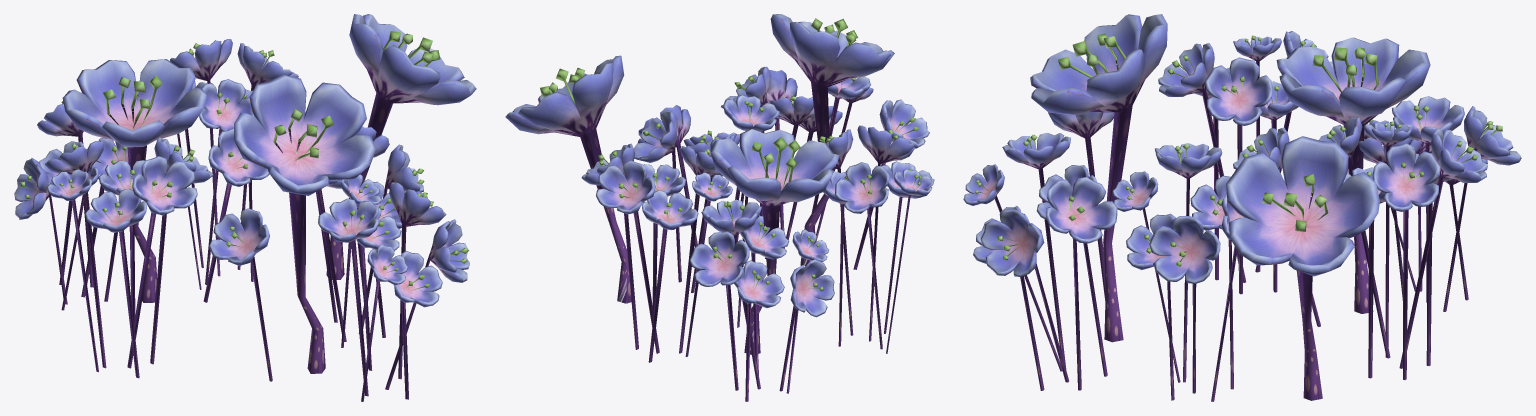
Rendered from n_SWFgogra06d.glb.
The picture shows the model from 3 angles, left to right: view 1: azimuth 30°, elevation 25°; view 2: azimuth 150°, elevation 25°; view 3: azimuth 270°, elevation 25°; orthographic projection. The views are drawn at different scales.
Parts seen in each view (by area): view 1: n_SWFgogra06d; view 2: n_SWFgogra06d; view 3: n_SWFgogra06d.
Boxes of the visible parts, x1,y1,x2,y2 form: n_SWFgogra06d: [14, 14, 476, 401]; n_SWFgogra06d: [505, 14, 934, 401]; n_SWFgogra06d: [963, 14, 1521, 401].
Bounding box in the file's own units: 1.66 × 1.1 × 1.69.
1 material, 1 textured.
